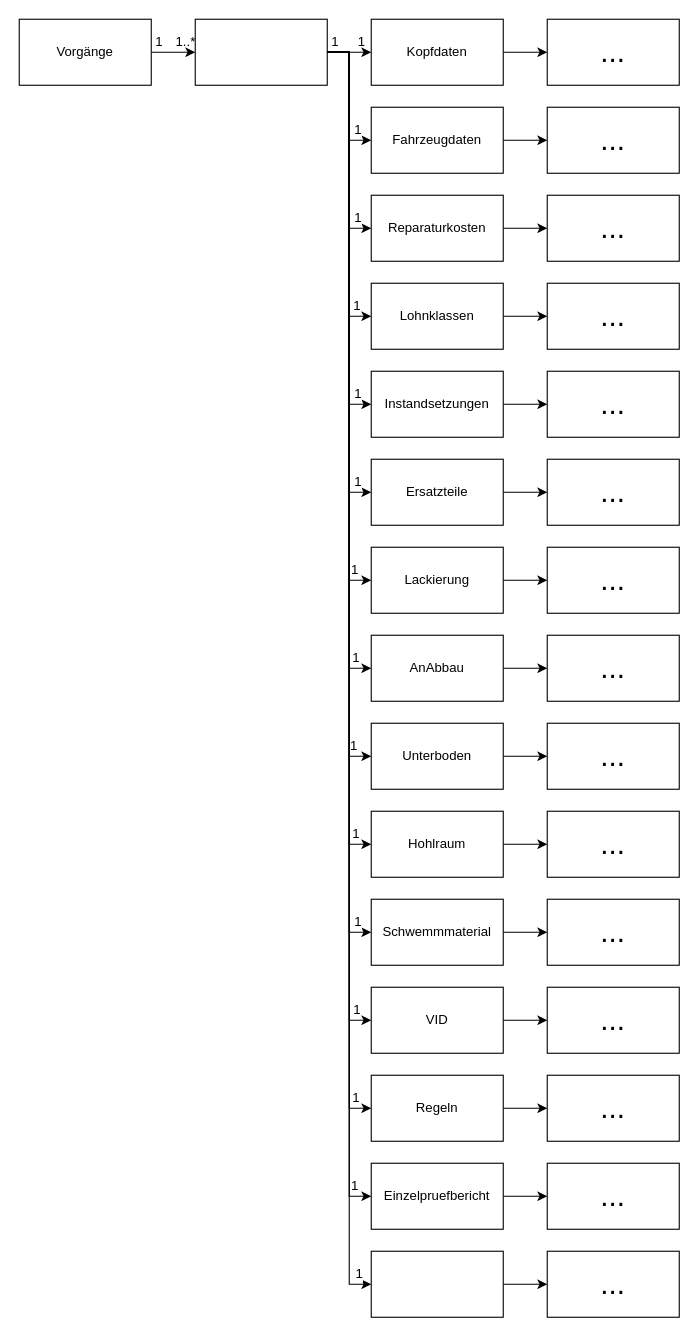
Image size: 699x1337. Some labels were removed from this diagram. Each missing label, with the centre of its shape:
"Kalkulation" goes at point (436, 1283).
"Vorgang" goes at point (260, 51).
